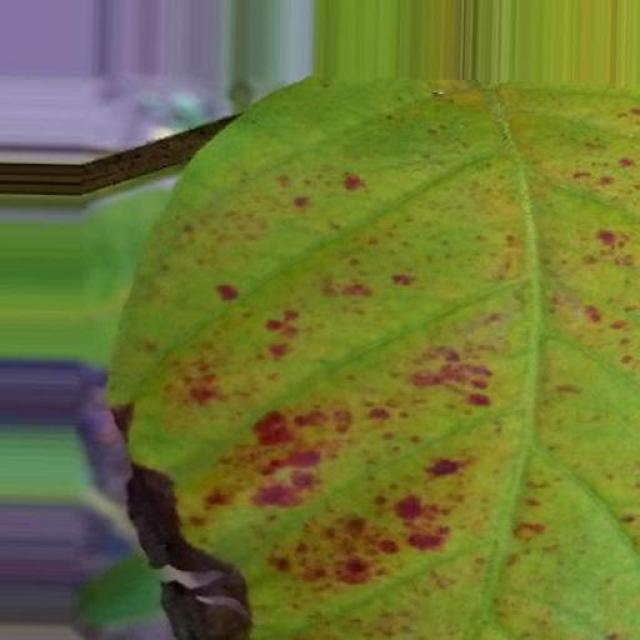Rust: (110, 81, 640, 640)
